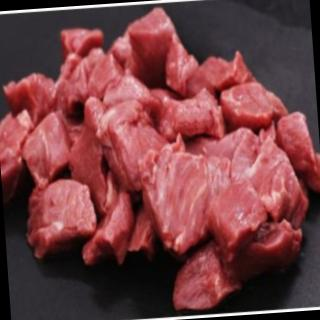Daging Sapi: (1, 1, 320, 320), (142, 143, 223, 249), (97, 103, 173, 189), (128, 6, 192, 94), (167, 248, 243, 314), (28, 180, 100, 249), (66, 119, 116, 214), (210, 178, 268, 256), (222, 82, 288, 138), (102, 70, 166, 120), (21, 112, 70, 174), (160, 95, 224, 142), (279, 110, 320, 181), (2, 73, 58, 122), (59, 23, 105, 59)
